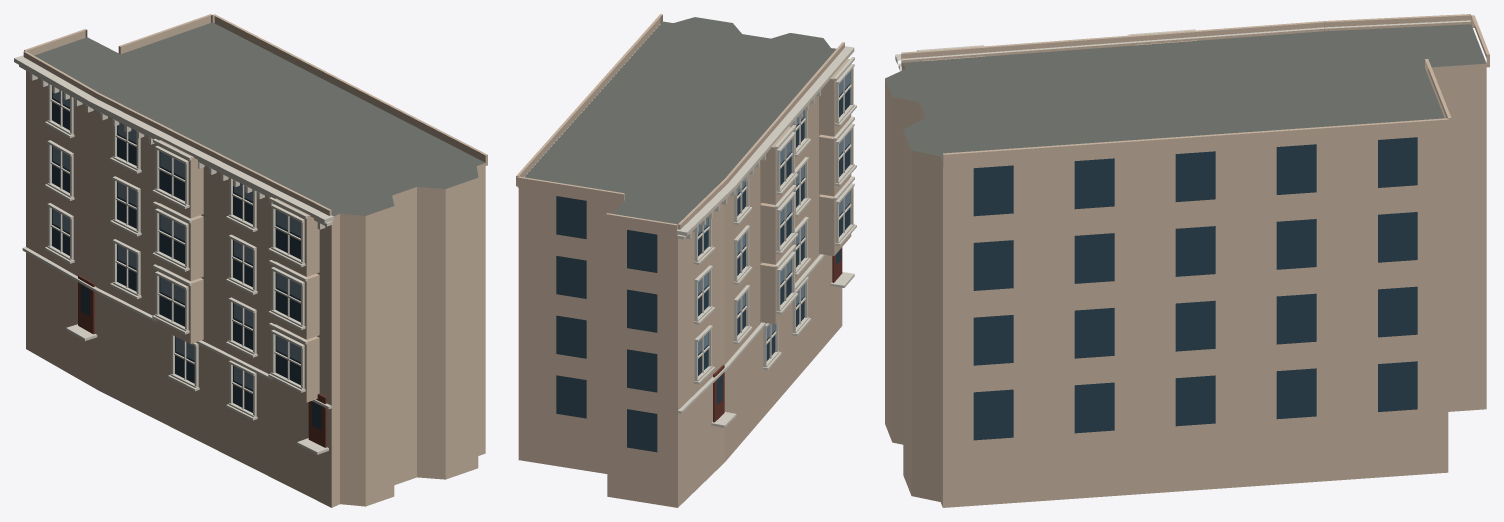
3 renders of one model, left to right at view 1: azimuth 30°, elevation 25°; view 2: azimuth 150°, elevation 25°; view 3: azimuth 270°, elevation 25°, orthographic. The views are drawn at different scales.
Parts seen in each view (by area): view 1: Footprint 0 / surface 2, Footprint 0 / surface 1, Cornices and window frames, Facade bay volumes, Inset glazing, Sky reflection panels, Storefronts and doors; view 2: Footprint 0 / surface 2, Footprint 0 / surface 1, Cornices and window frames, Inset glazing, Facade bay volumes, Sky reflection panels, Storefronts and doors; view 3: Footprint 0 / surface 2, Footprint 0 / surface 1, Inset glazing, Facade bay volumes, Cornices and window frames.
Boxes of the visible parts, bbox=[...] form: Footprint 0 / surface 2: bbox=[26, 71, 485, 507]; Footprint 0 / surface 1: bbox=[34, 22, 484, 216]; Cornices and window frames: bbox=[14, 55, 333, 454]; Facade bay volumes: bbox=[23, 14, 487, 402]; Inset glazing: bbox=[52, 86, 321, 429]; Sky reflection panels: bbox=[52, 90, 300, 389]; Storefronts and doors: bbox=[78, 275, 326, 447]; Footprint 0 / surface 2: bbox=[518, 96, 842, 507]; Footprint 0 / surface 1: bbox=[524, 17, 836, 224]; Cornices and window frames: bbox=[676, 46, 856, 427]; Inset glazing: bbox=[556, 71, 850, 452]; Facade bay volumes: bbox=[516, 14, 851, 324]; Sky reflection panels: bbox=[698, 72, 849, 354]; Storefronts and doors: bbox=[713, 247, 842, 422]; Footprint 0 / surface 2: bbox=[885, 63, 1486, 507]; Footprint 0 / surface 1: bbox=[885, 24, 1486, 161]; Inset glazing: bbox=[973, 137, 1417, 440]; Facade bay volumes: bbox=[901, 14, 1489, 167]; Cornices and window frames: bbox=[895, 20, 1470, 70].
Bounding box in the file's own units: 12.35 × 14.01 × 21.66.
